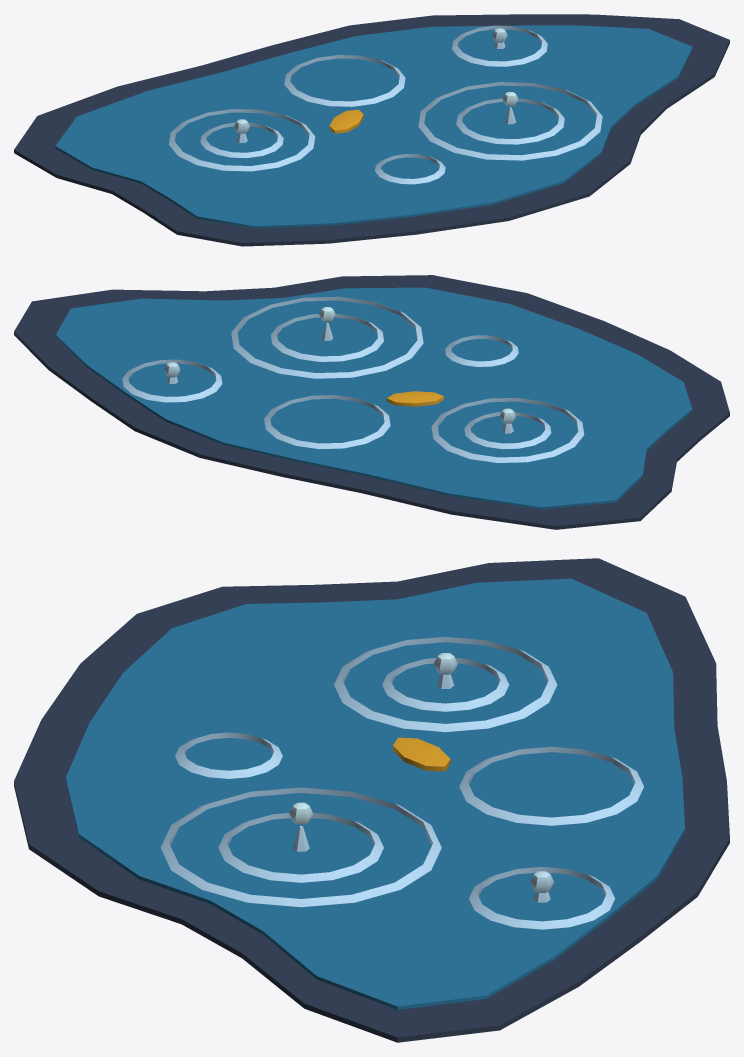
File: hz_storm_puddle.glb
3 views of the same model, one above another, from view 1: azimuth 30°, elevation 25°; view 2: azimuth 150°, elevation 25°; view 3: azimuth 270°, elevation 25° (orthographic). The views are drawn at different scales.
Visible parts, largest first — view 1: hz_storm_puddle; view 2: hz_storm_puddle; view 3: hz_storm_puddle.
Part boxes in pixels (left/top/right/bottom): hz_storm_puddle: left=14, top=14, right=729, bottom=246; hz_storm_puddle: left=14, top=275, right=729, bottom=529; hz_storm_puddle: left=14, top=558, right=729, bottom=1042.
Size of the model in its own units: 2.35 by 0.125 by 1.49.
